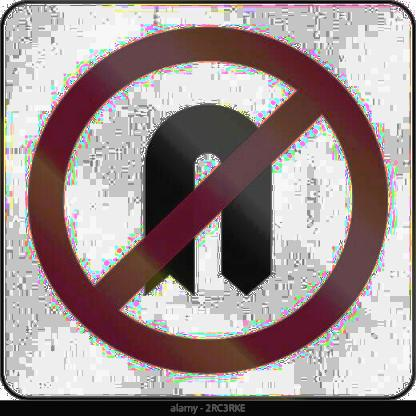No U-turn: (23, 18, 390, 382)
